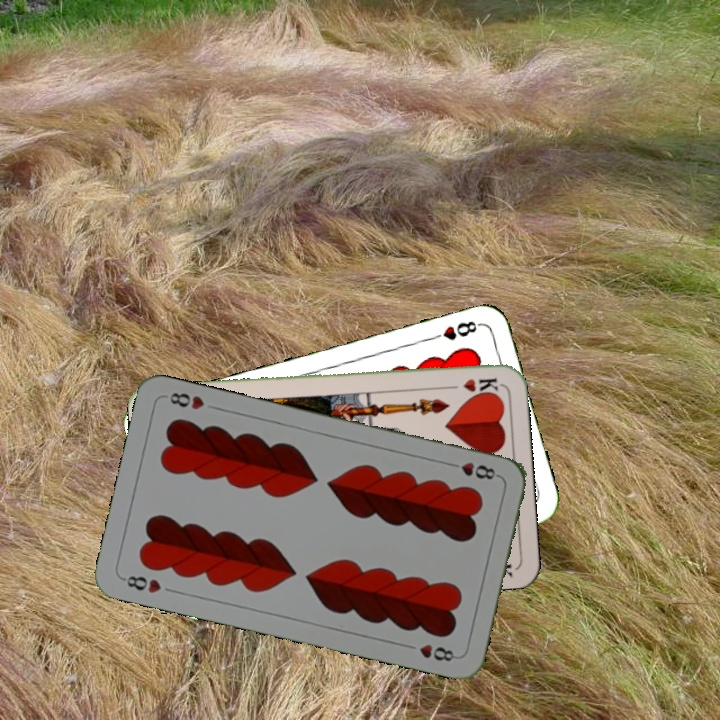H8: (426, 317, 484, 344), (443, 458, 502, 482), (118, 571, 164, 596)
HK: (442, 374, 500, 396)
